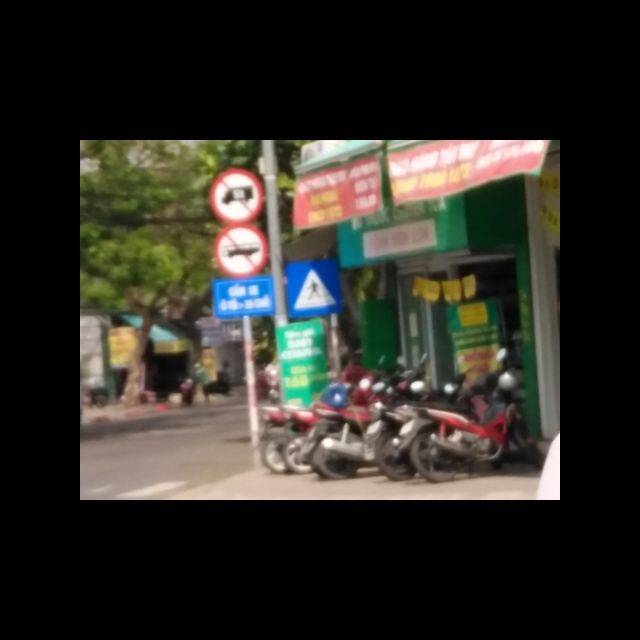Cấm xe tải: (209, 167, 266, 224)
Cấm xe xe khách: (213, 224, 269, 278)
Đường dành cho người đi bộ: (284, 259, 342, 317)
